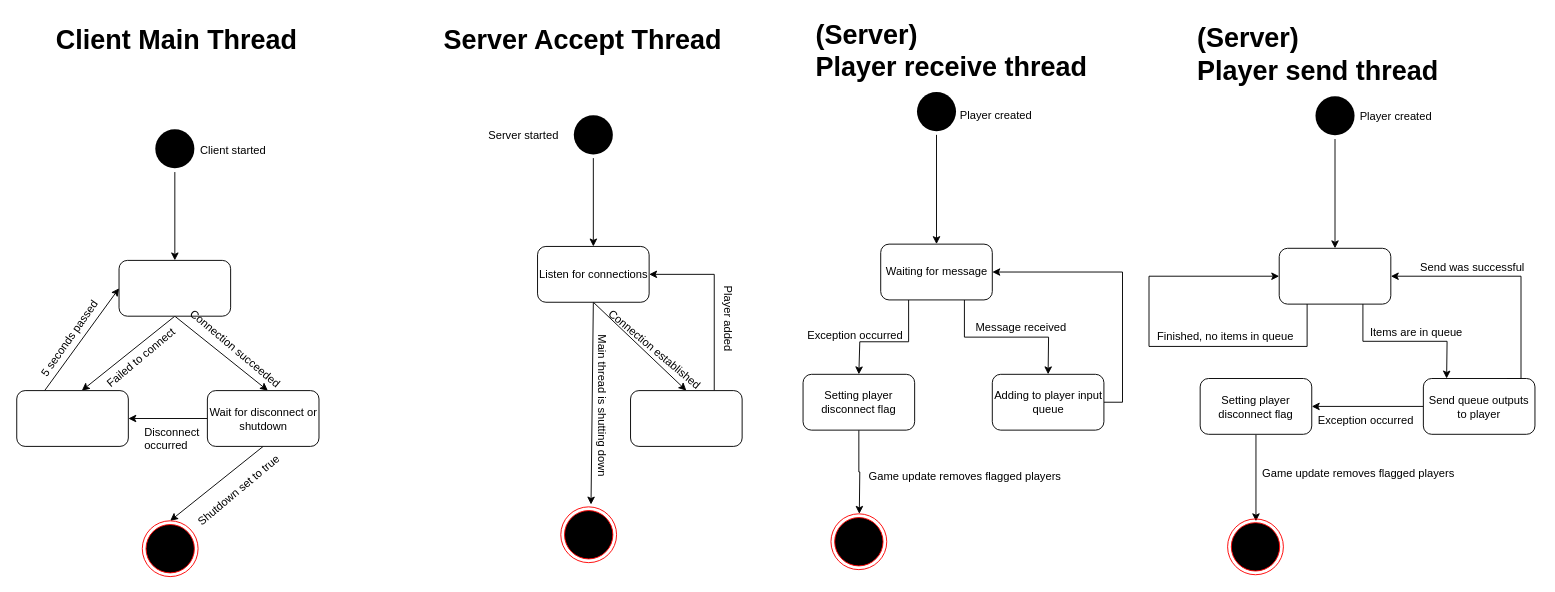
The diagram is 1555 pixels wide and 592 high, and some of its shapes have lost their labels. Each missing label, with the centre of its shape:
Add player to player list: point (686, 418)
Attempting to connect: point (174, 287)
Sleep a while: point (1334, 275)
Wait for retry: point (72, 418)
